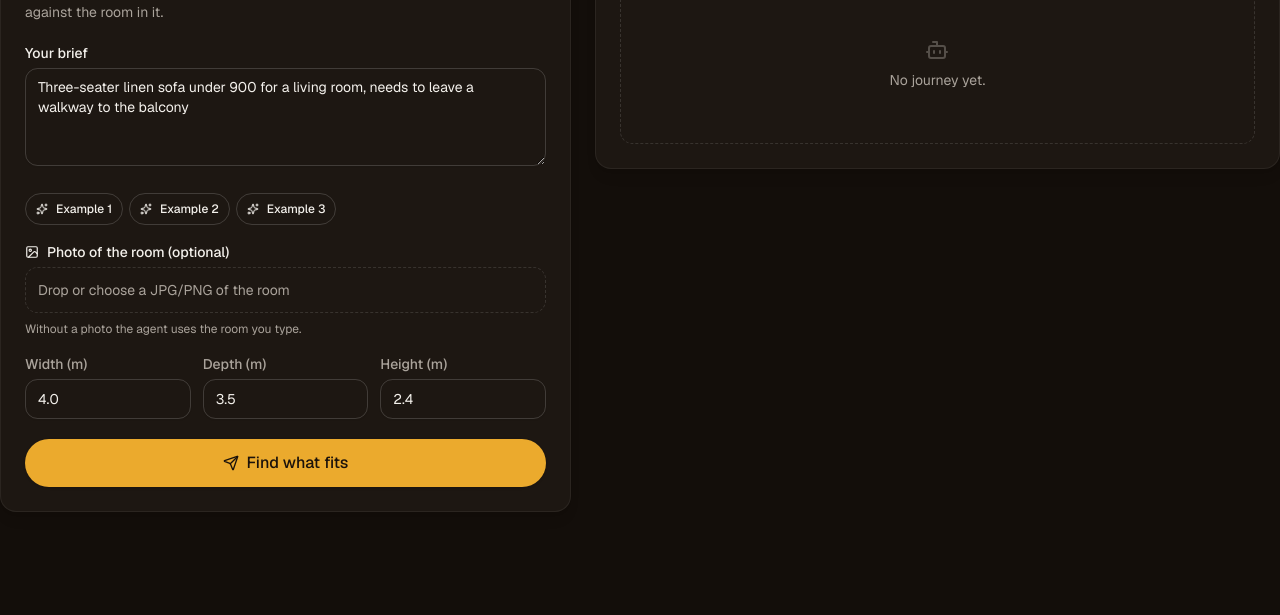
Scenario: FitAgent › hands over to a person when the agent decides not to recommend
This screenshot has width=1280, height=615.
Click the button "Find what fits" at [285, 463], box [25,439,546,487]
(page scrolled)
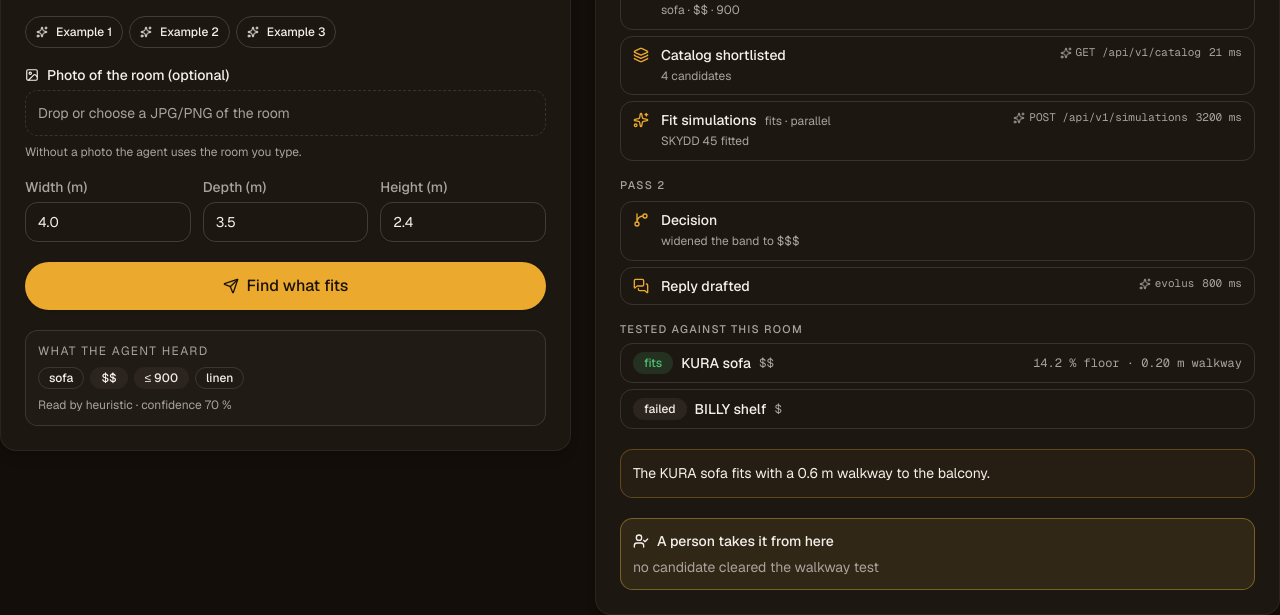
Now the text "A person takes it from here" is shown, box [633,532,834,550]
Now the text "no candidate cleared the walkway test" is shown, box [633,558,879,576]
